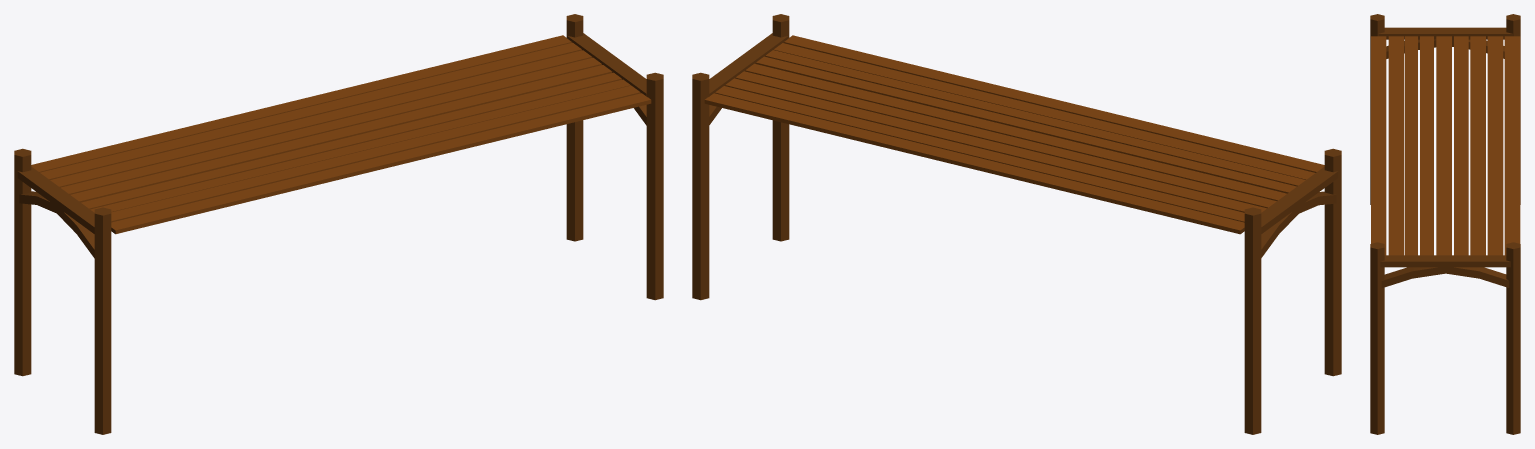
Rendered from Mesh_Large_Dock.fbx.
3 renders of one model, left to right at view 1: azimuth 30°, elevation 25°; view 2: azimuth 150°, elevation 25°; view 3: azimuth 270°, elevation 25°, orthographic. The views are drawn at different scales.
Visible parts, largest first — view 1: Large_Dock; view 2: Large_Dock; view 3: Large_Dock.
Boxes of the visible parts, x1,y1,x2,y2 form: Large_Dock: (14, 14, 663, 434); Large_Dock: (692, 14, 1341, 434); Large_Dock: (1370, 14, 1520, 434).
Size of the model in its own units: 1362 by 502 by 367.
1 material, 1 textured.
